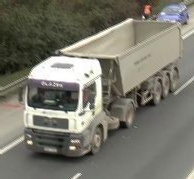truck: (24, 18, 180, 158)
